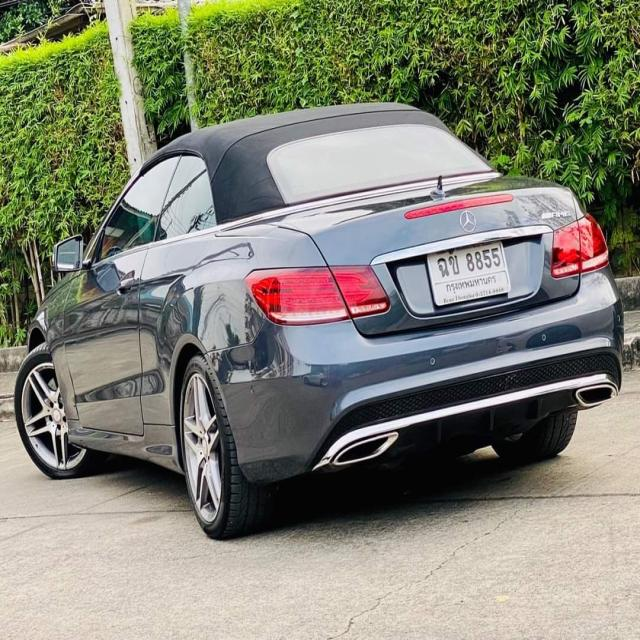license_plate: (427, 239, 510, 306)
